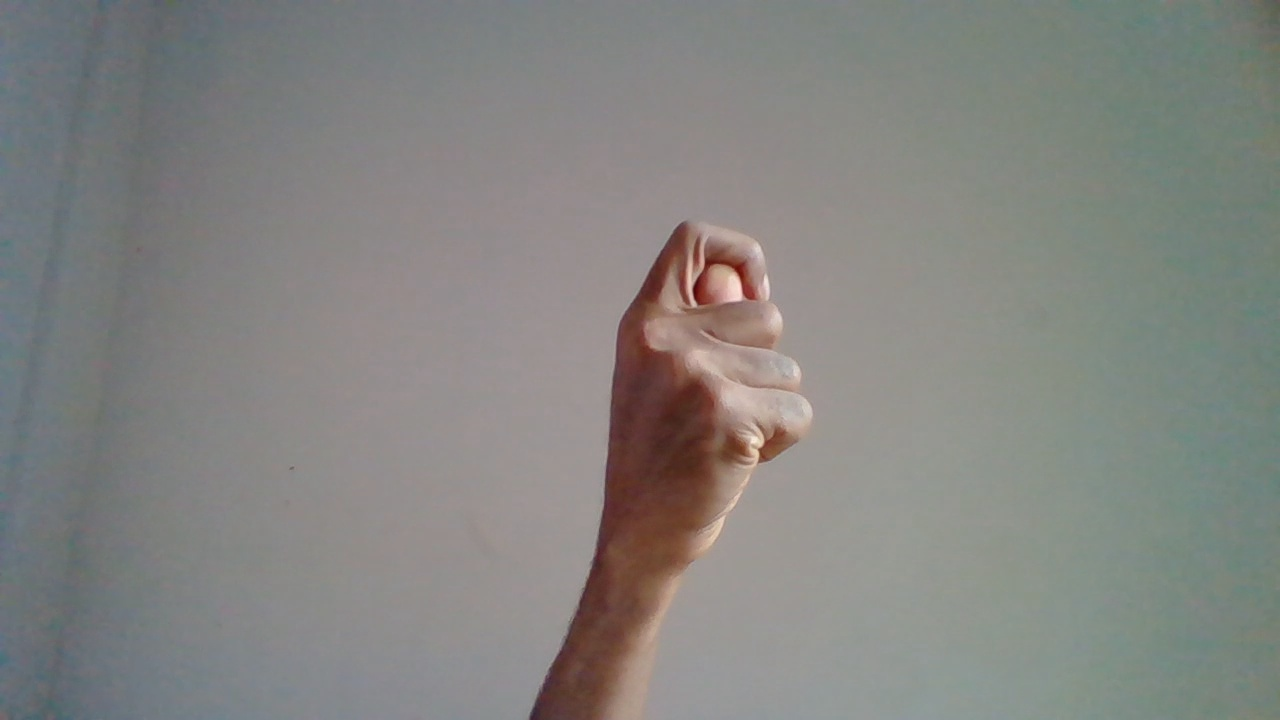che: (576, 217, 811, 611)
